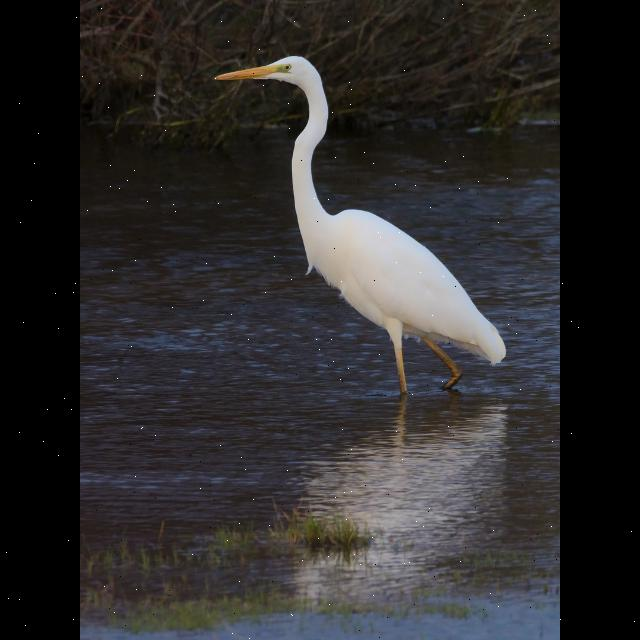egret: (210, 52, 514, 404)
